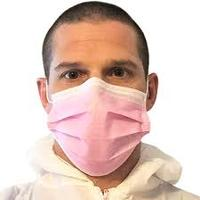flu mask: (44, 76, 154, 176)
